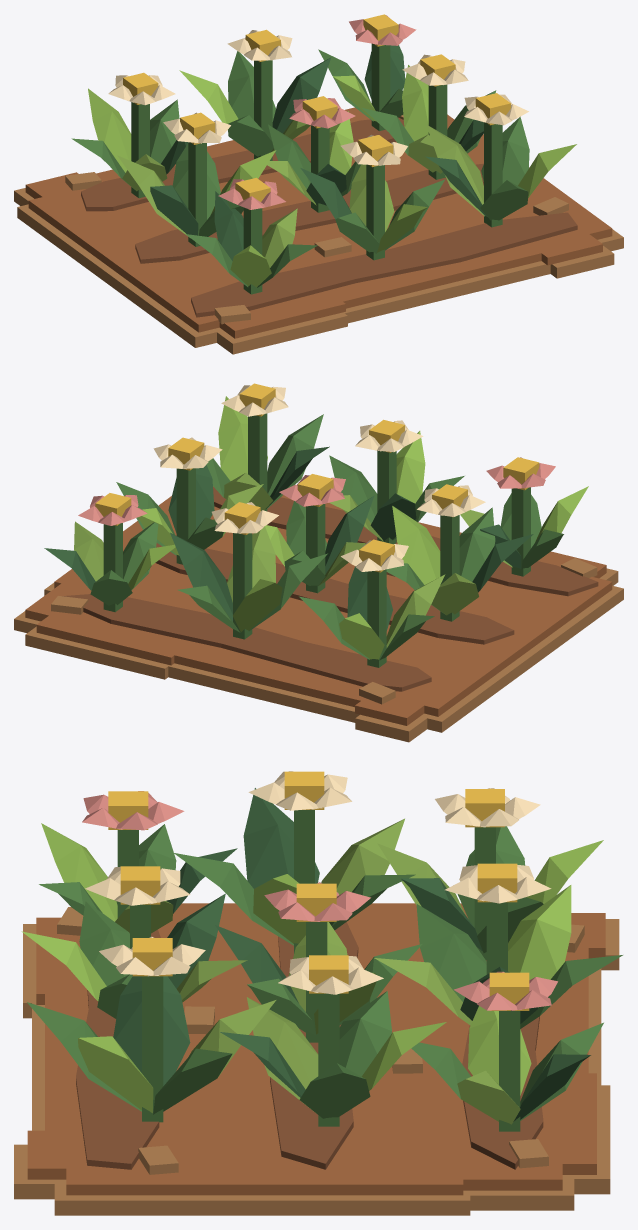
File: plot-flowering.glb
3 renders of one model, top to bottom at view 1: azimuth 30°, elevation 25°; view 2: azimuth 150°, elevation 25°; view 3: azimuth 270°, elevation 25°, orthographic. The views are drawn at different scales.
Visible parts, largest first — view 1: Blade; view 2: Blade; view 3: Blade.
Boxes of the visible parts, left/top/right/bottom form: Blade: left=14, top=14, right=623, bottom=354; Blade: left=14, top=383, right=623, bottom=742; Blade: left=14, top=771, right=622, bottom=1215.
Size of the model in its own units: 1.77 by 0.5802 by 1.57.
